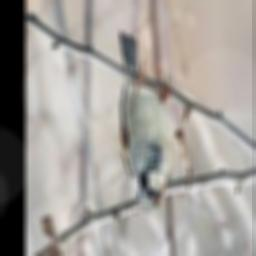Sparrow: (119, 32, 171, 214)
